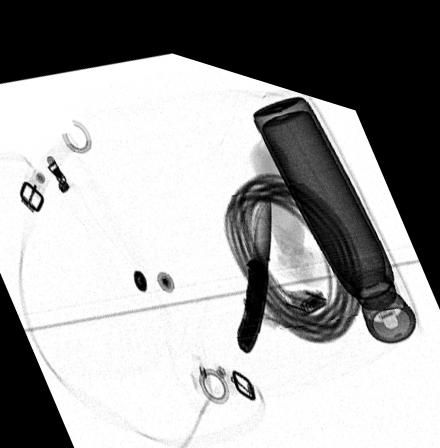Knife: (235, 178, 271, 337)
